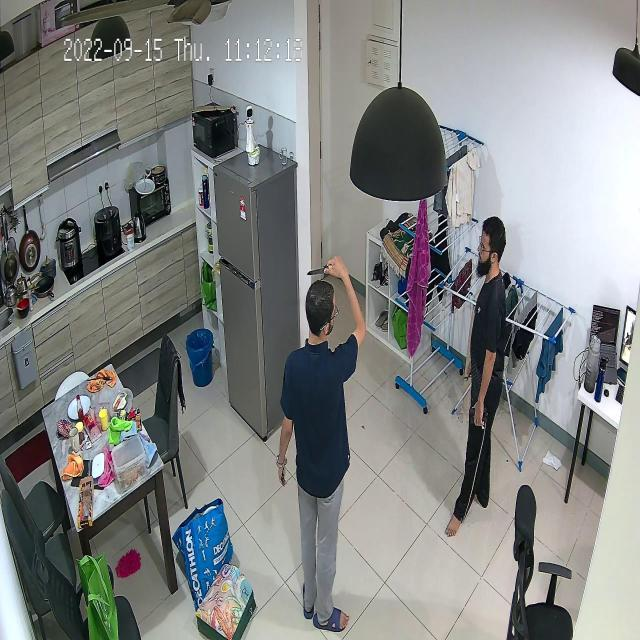Knife: (300, 258, 348, 280)
